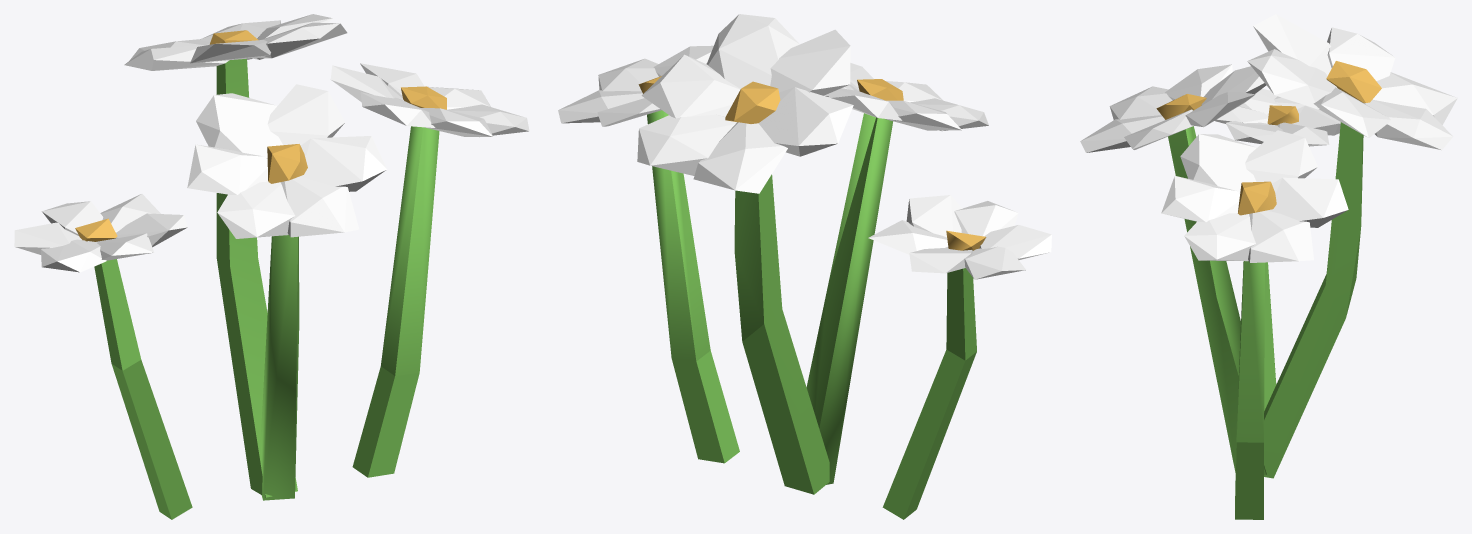
The model's file is Flower_05.fbx.
The picture shows the model from 3 angles, left to right: view 1: azimuth 30°, elevation 25°; view 2: azimuth 150°, elevation 25°; view 3: azimuth 270°, elevation 25°; orthographic projection. The views are drawn at different scales.
Visible parts, largest first — view 1: Flower_05; view 2: Flower_05; view 3: Flower_05.
Part boxes in pixels (bbox=[...]): Flower_05: bbox=[14, 14, 529, 519]; Flower_05: bbox=[558, 14, 1051, 519]; Flower_05: bbox=[1080, 14, 1457, 519].
Bounding box in the file's own units: 34.54 × 32.16 × 25.24.
